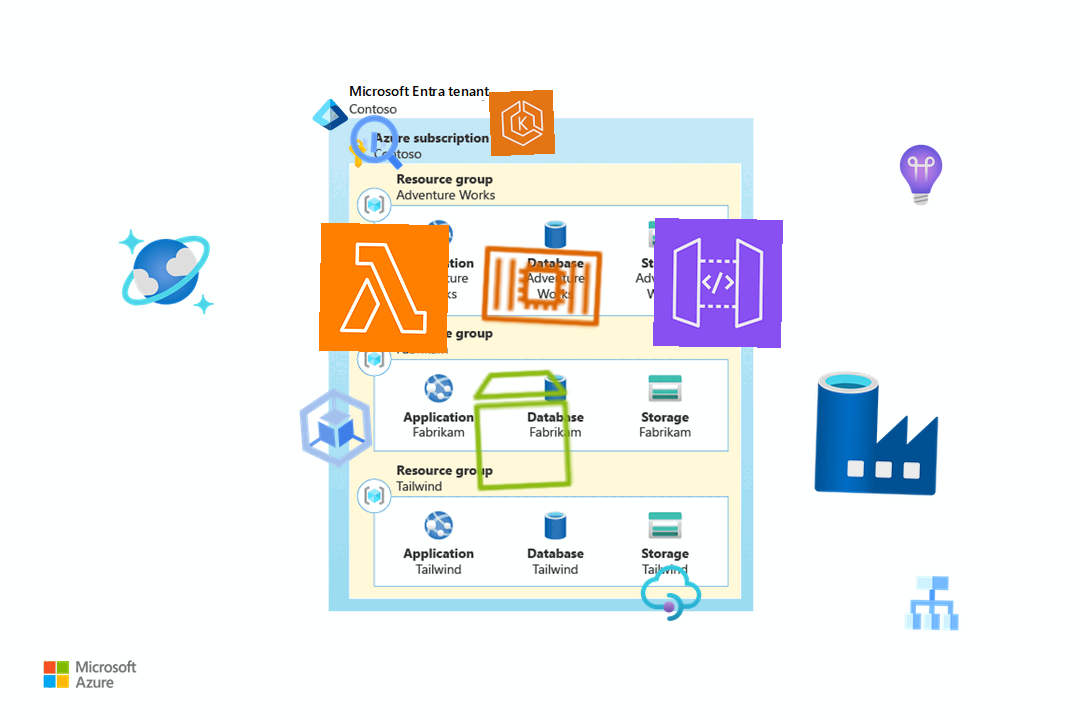aws_amazon_api_gateway: (653, 218, 783, 348)
aws_amazon_elastic_kubernetes_service: (488, 89, 556, 157)
aws_elastic_block_store_volume: (456, 363, 590, 497)
aws_elastic_container_service_container_2: (474, 218, 610, 354)
aws_lambda: (318, 222, 450, 354)
azure_api_management_services: (638, 560, 704, 626)
azure_application_insights: (888, 142, 954, 208)
azure_cosmos_db: (114, 220, 218, 324)
azure_data_factories: (810, 366, 944, 500)
gcp_bigquery: (343, 108, 411, 176)
gcp_cloud_load_balancing: (899, 570, 965, 636)
gcp_google_kubernetes_engine: (284, 376, 388, 480)
